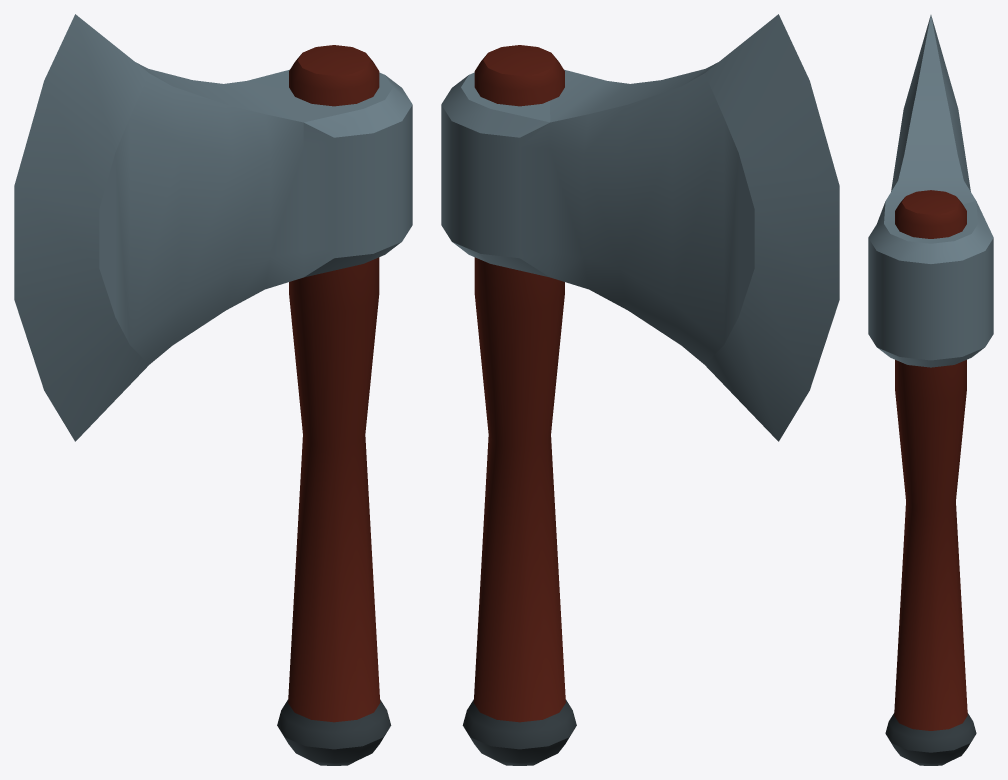
File: axe_uncommon.obj
The picture shows the model from 3 angles, left to right: view 1: azimuth 30°, elevation 25°; view 2: azimuth 150°, elevation 25°; view 3: azimuth 270°, elevation 25°; orthographic projection. The views are drawn at different scales.
Parts seen in each view (by area): view 1: axe_uncommon_Cube.3835; view 2: axe_uncommon_Cube.3835; view 3: axe_uncommon_Cube.3835.
Part boxes in pixels (left/top/right/bottom): axe_uncommon_Cube.3835: left=14, top=14, right=412, bottom=765; axe_uncommon_Cube.3835: left=441, top=14, right=839, bottom=765; axe_uncommon_Cube.3835: left=868, top=15, right=993, bottom=765.
Size of the model in its own units: 0.4806 by 0.9528 by 0.1686.
